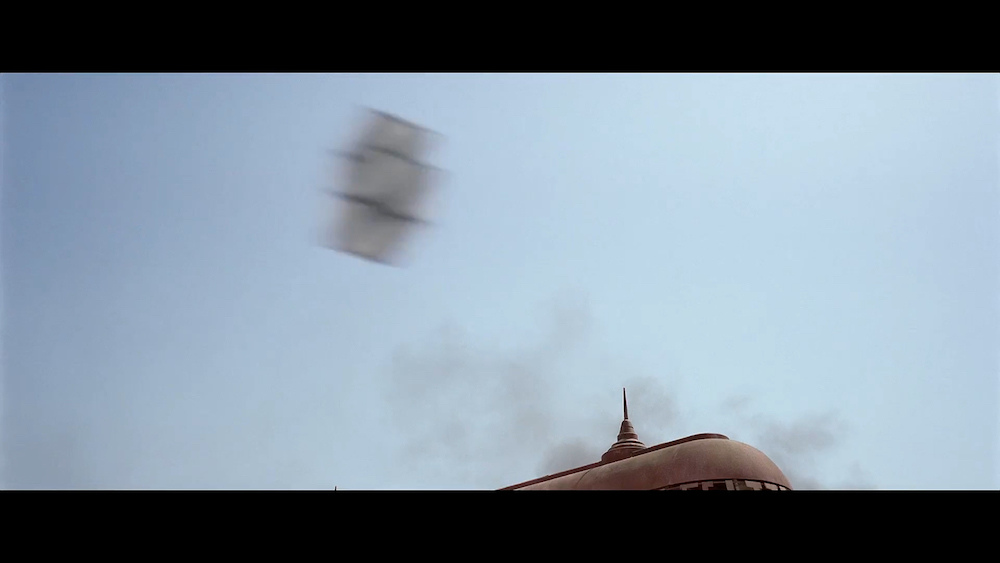Tie Fighter: (323, 109, 453, 272)
